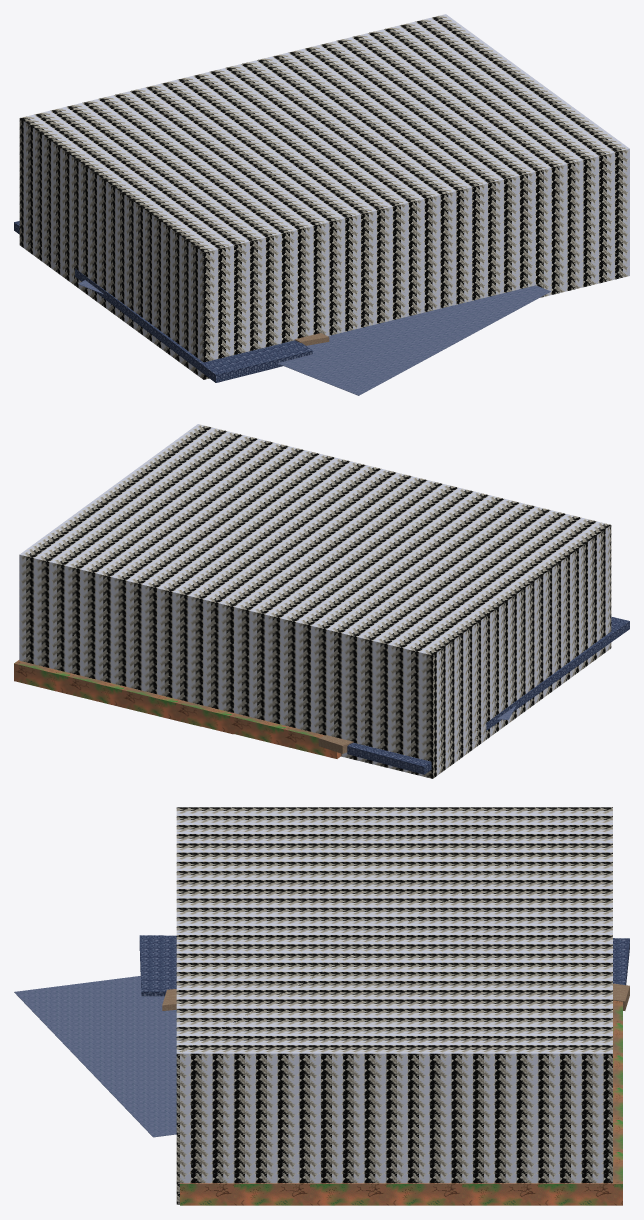
File: Intro2_brush.glb
3 views of the same model, one above another, from view 1: azimuth 30°, elevation 25°; view 2: azimuth 150°, elevation 25°; view 3: azimuth 270°, elevation 25° (orthographic). The views are drawn at different scales.
Visible parts, largest first — view 1: Intro2; view 2: Intro2; view 3: Intro2.
Boxes of the visible parts, <box> form: Intro2: <box>14,14,629,395</box>; Intro2: <box>14,424,629,778</box>; Intro2: <box>14,807,629,1205</box>.
Bounding box in the file's own units: 7054 × 2000 × 7261.
Materials: 9 (9 with a texture image).
